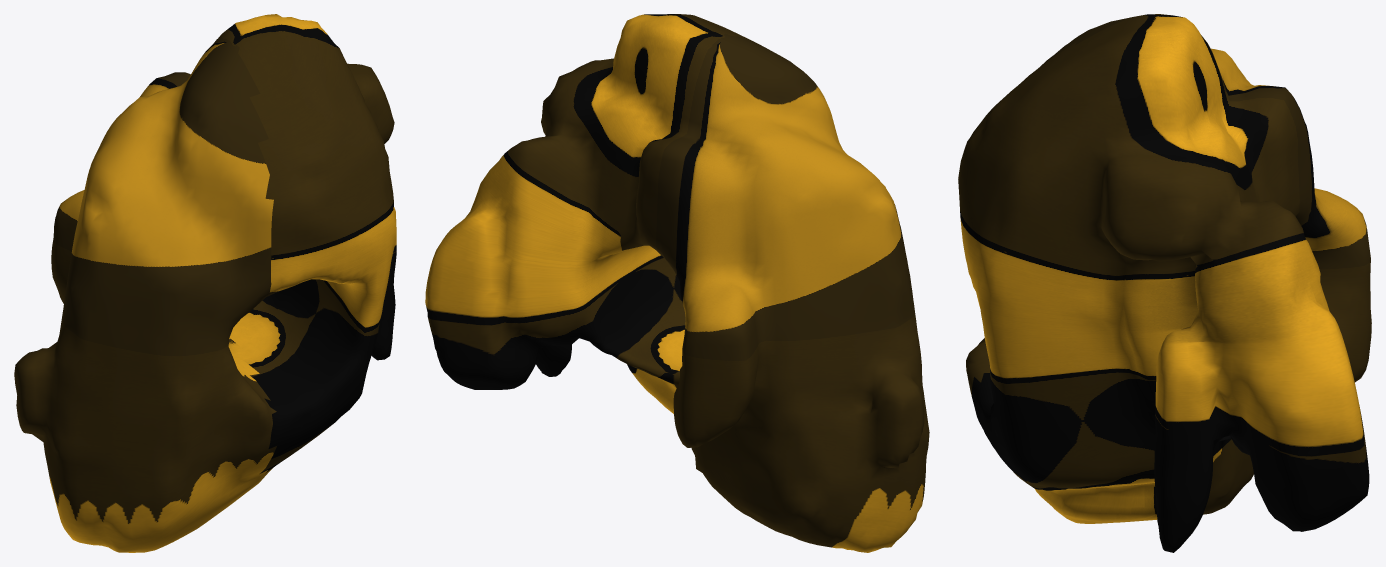
File: dekaiwa.fbx
3 renders of one model, left to right at view 1: azimuth 30°, elevation 25°; view 2: azimuth 150°, elevation 25°; view 3: azimuth 270°, elevation 25°, orthographic. The views are drawn at different scales.
Visible parts, largest first — view 1: dekaIwa_LOD0; view 2: dekaIwa_LOD0; view 3: dekaIwa_LOD0.
Part boxes in pixels (left/top/right/bottom): dekaIwa_LOD0: left=14, top=14, right=396, bottom=552; dekaIwa_LOD0: left=425, top=14, right=929, bottom=552; dekaIwa_LOD0: left=958, top=14, right=1371, bottom=552.
Size of the model in its own units: 4555 by 4901 by 3197.
